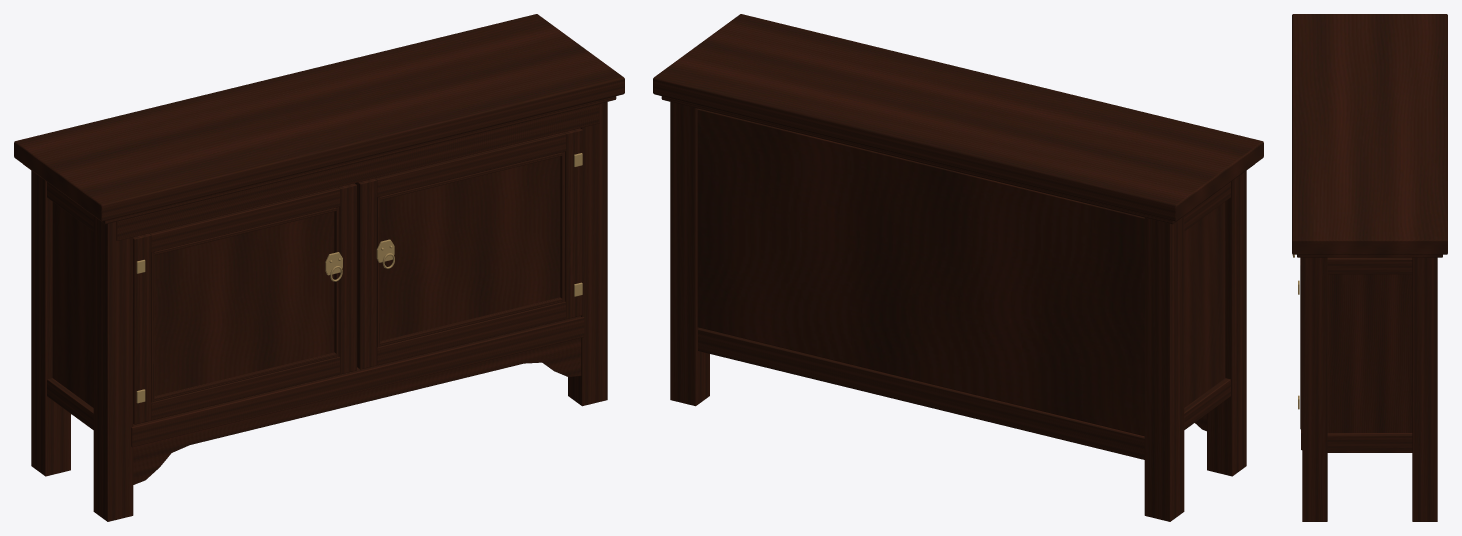
File: gpt-zhaibiangui-v1.glb
3 renders of one model, left to right at view 1: azimuth 30°, elevation 25°; view 2: azimuth 150°, elevation 25°; view 3: azimuth 270°, elevation 25°, orthographic. The views are drawn at different scales.
Visible parts, largest first — view 1: 16_窄边柜_柜体, 16_窄边柜_右门_外侧竖轴, 16_窄边柜_左门_外侧竖轴; view 2: 16_窄边柜_柜体; view 3: 16_窄边柜_柜体, 16_窄边柜_右门_外侧竖轴.
Part boxes in pixels (x1,y1,x2,y2): 16_窄边柜_柜体: (14,14,624,521); 16_窄边柜_右门_外侧竖轴: (355,128,582,369); 16_窄边柜_左门_外侧竖轴: (133,183,356,424); 16_窄边柜_柜体: (653,14,1263,521); 16_窄边柜_柜体: (1292,14,1447,521); 16_窄边柜_右门_外侧竖轴: (1292,254,1302,429).
Size of the model in its own units: 1.1 by 0.65 by 0.32.
Materials: 2 (1 with a texture image).
